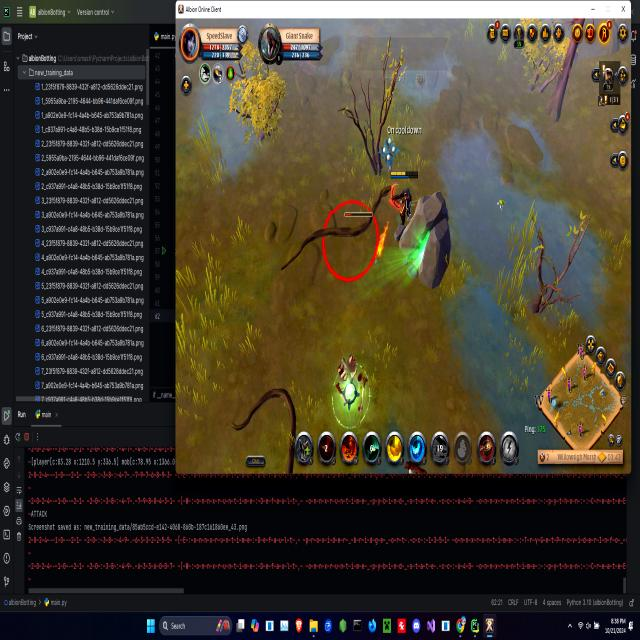hide: (378, 128, 402, 174)
ore: (279, 178, 393, 294), (234, 385, 300, 472)
red: (390, 167, 418, 224)
